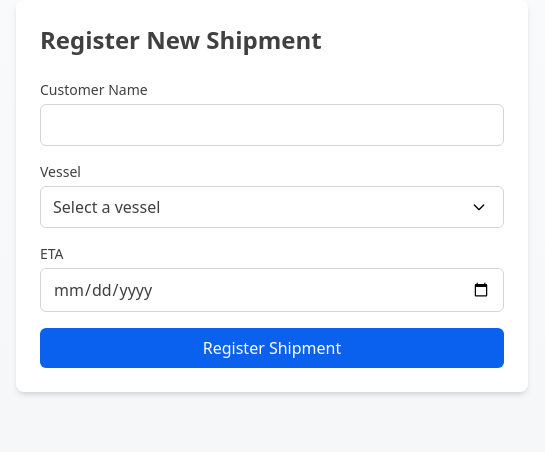
it: ShipmentForm › validates past dates
Type "Test Customer" into the field with test id "customer-input" at (272, 125), box [40,104,504,146]
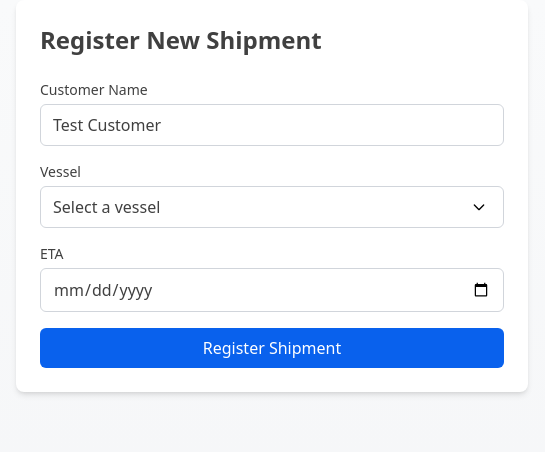
Select "CMA-CGM-CONCORDE" in the dropdown with test id "vessel-select" at (272, 207), box [40,186,504,228]
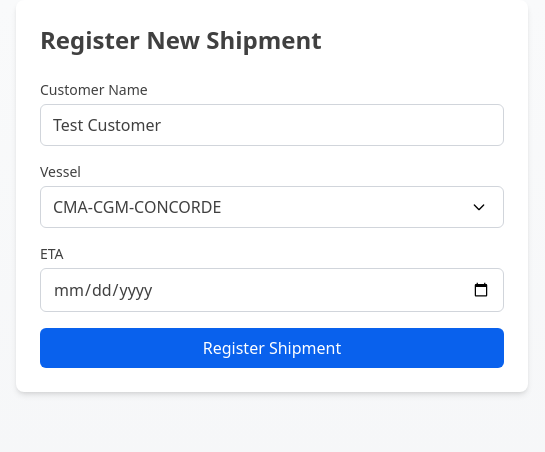
Type "2020-01-01" into the date field with test id "eta-input" at (272, 290), box [40,268,504,312]
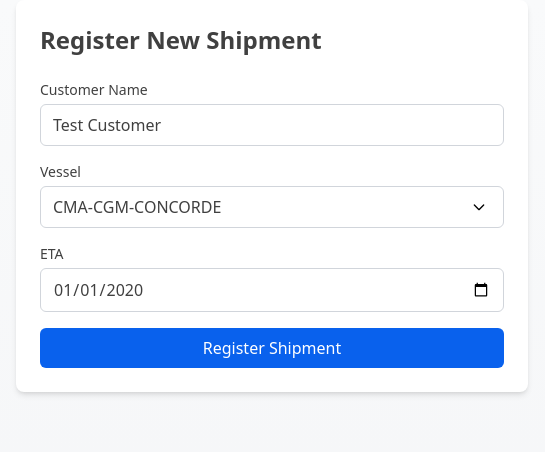
Submit the form with test id "shipment-form-container", box [40,80,504,368]
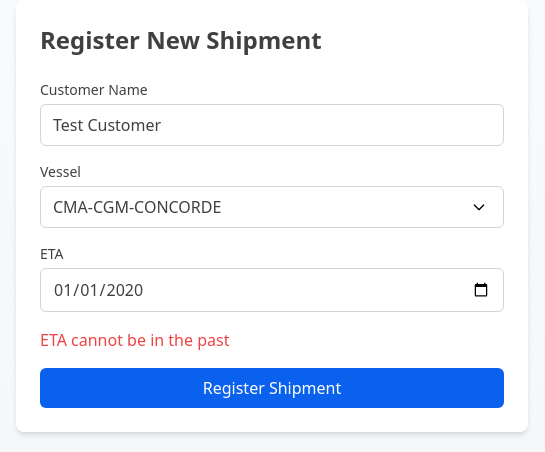
Expected: the text "ETA cannot be in the past" is shown, [40,329,229,351]
